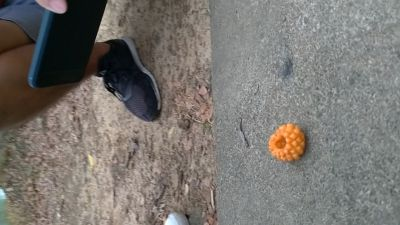eggs: (267, 123, 307, 163)
